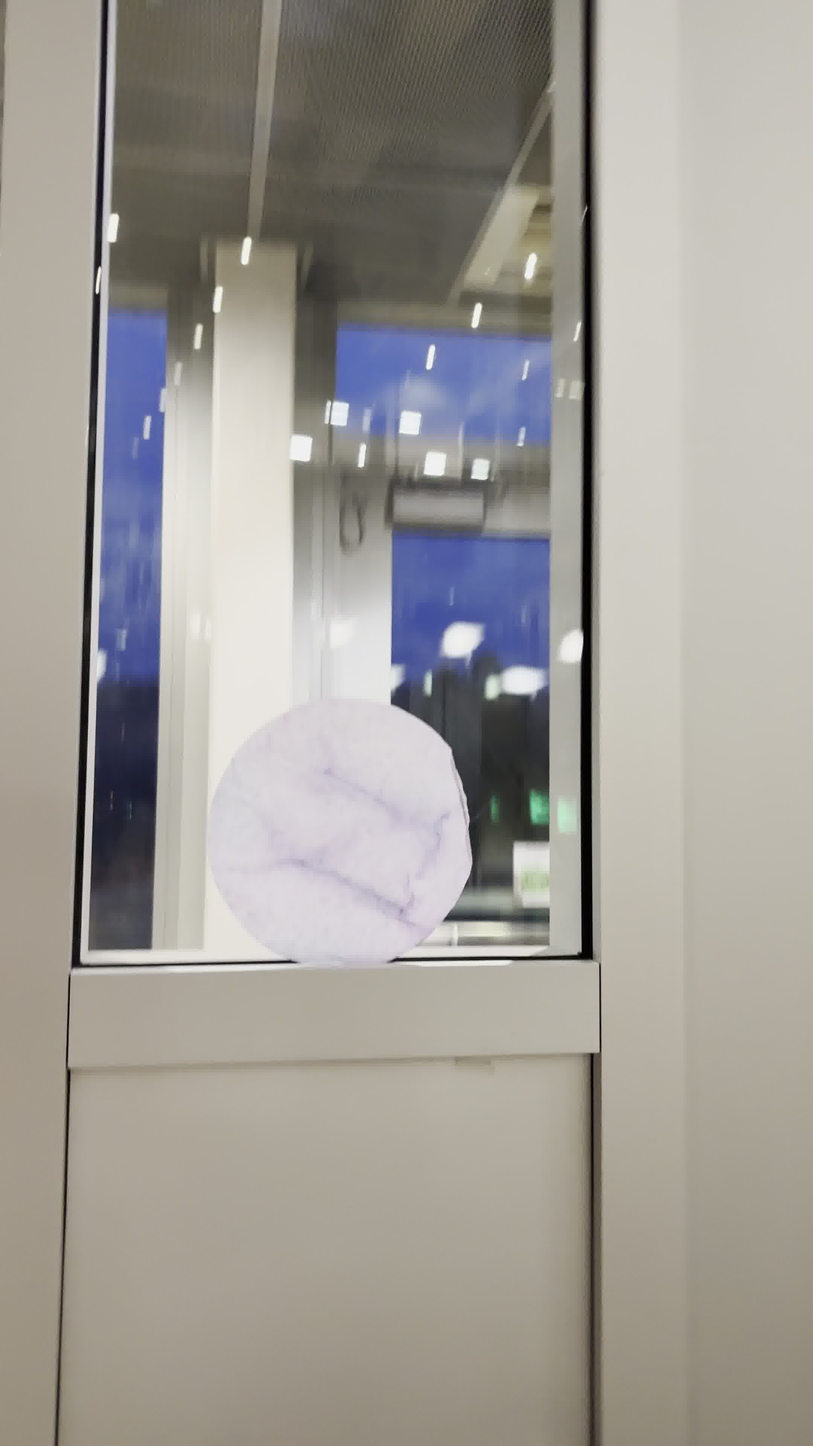Target: (205, 694, 476, 975)
